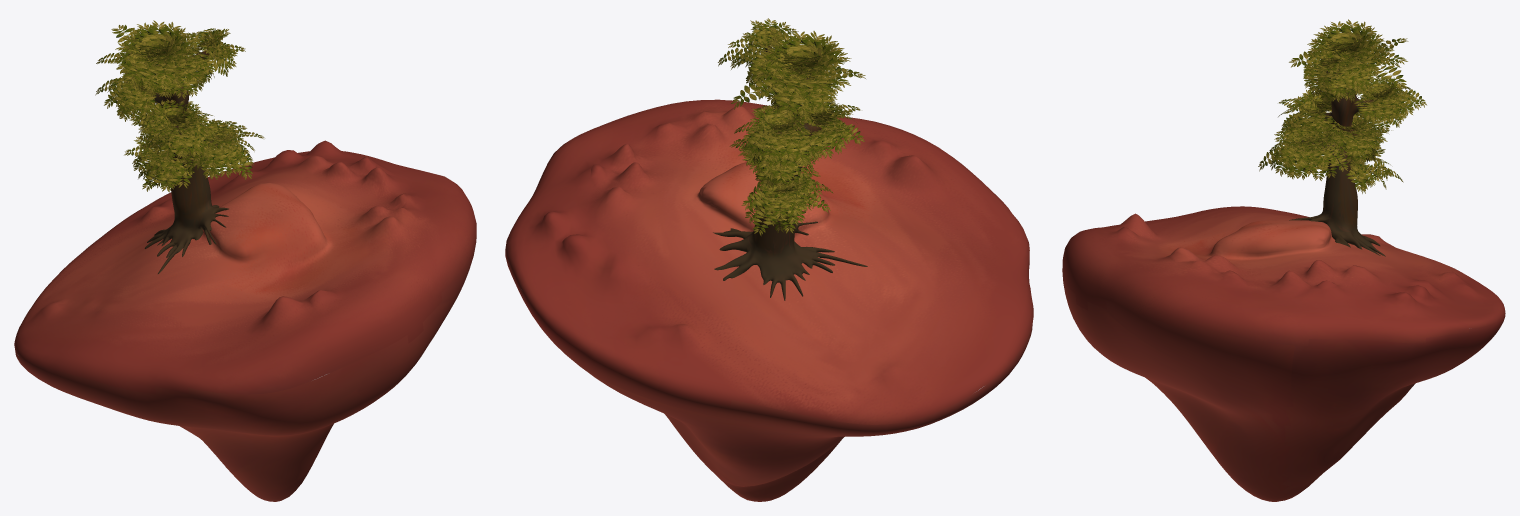
The model's file is Island_Tree_Foliage.fbx.
3 views of the same model, side by side, from view 1: azimuth 30°, elevation 25°; view 2: azimuth 150°, elevation 25°; view 3: azimuth 270°, elevation 25° (orthographic). The views are drawn at different scales.
Parts seen in each view (by area): view 1: Island_01, Foliage, Merged_Tree_roots42; view 2: Island_01, Foliage, Merged_Tree_roots42; view 3: Island_01, Foliage, Merged_Tree_roots42.
Boxes of the visible parts, <box> form: Island_01: <box>14,140,476,501</box>; Foliage: <box>95,20,264,192</box>; Merged_Tree_roots42: <box>144,51,228,273</box>; Island_01: <box>505,99,1033,501</box>; Foliage: <box>718,18,865,236</box>; Merged_Tree_roots42: <box>713,46,867,300</box>; Island_01: <box>1062,206,1505,501</box>; Foliage: <box>1258,19,1426,193</box>; Merged_Tree_roots42: <box>1289,69,1385,256</box>.
Size of the model in its own units: 1.27 by 1.34 by 1.23.
